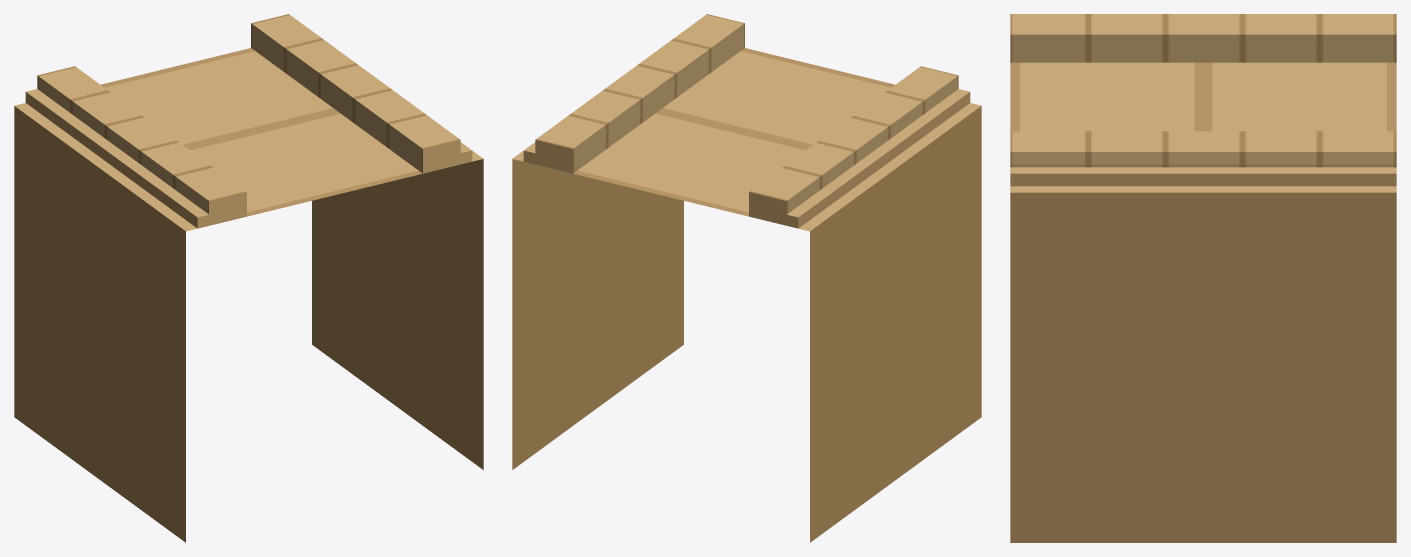
File: ST_Env_Floor_05.fbx
The picture shows the model from 3 angles, left to right: view 1: azimuth 30°, elevation 25°; view 2: azimuth 150°, elevation 25°; view 3: azimuth 270°, elevation 25°; orthographic projection. The views are drawn at different scales.
Visible parts, largest first — view 1: ST_Env_Floor_05; view 2: ST_Env_Floor_05; view 3: ST_Env_Floor_05.
Boxes of the visible parts, x1=… form: ST_Env_Floor_05: x1=14, y1=14, x2=483, y2=542; ST_Env_Floor_05: x1=512, y1=14, x2=981, y2=542; ST_Env_Floor_05: x1=1010, y1=14, x2=1396, y2=542.
Bounding box in the file's own units: 5 × 5.4 × 5.
